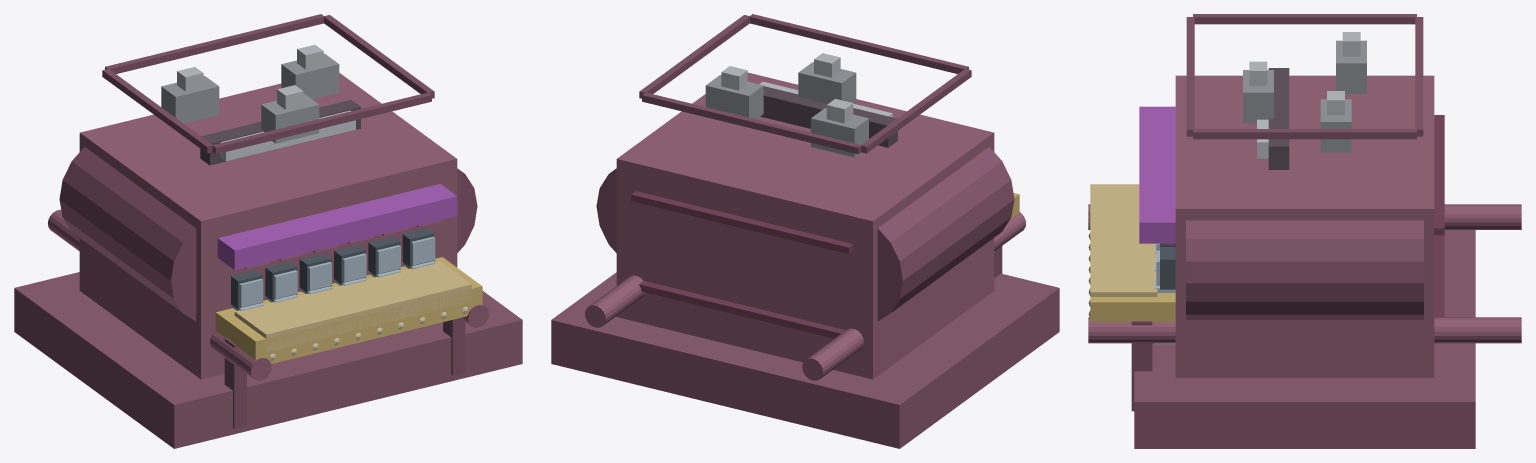
File: casino.glb
3 renders of one model, left to right at view 1: azimuth 30°, elevation 25°; view 2: azimuth 150°, elevation 25°; view 3: azimuth 270°, elevation 25°, orthographic. The views are drawn at different scales.
Parts seen in each view (by area): view 1: world; view 2: world; view 3: world.
Part boxes in pixels (x1,y1,x2,y2): world: (14, 14, 522, 448); world: (551, 14, 1059, 448); world: (1088, 14, 1521, 448).
Size of the model in its own units: 1.66 by 1.3 by 1.67.
